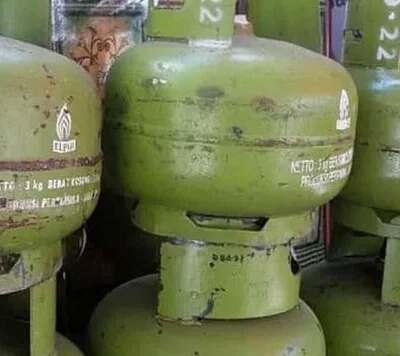gas_ijo: (107, 1, 358, 245), (1, 1, 105, 292), (88, 244, 330, 356), (323, 3, 400, 235), (295, 234, 400, 356)
